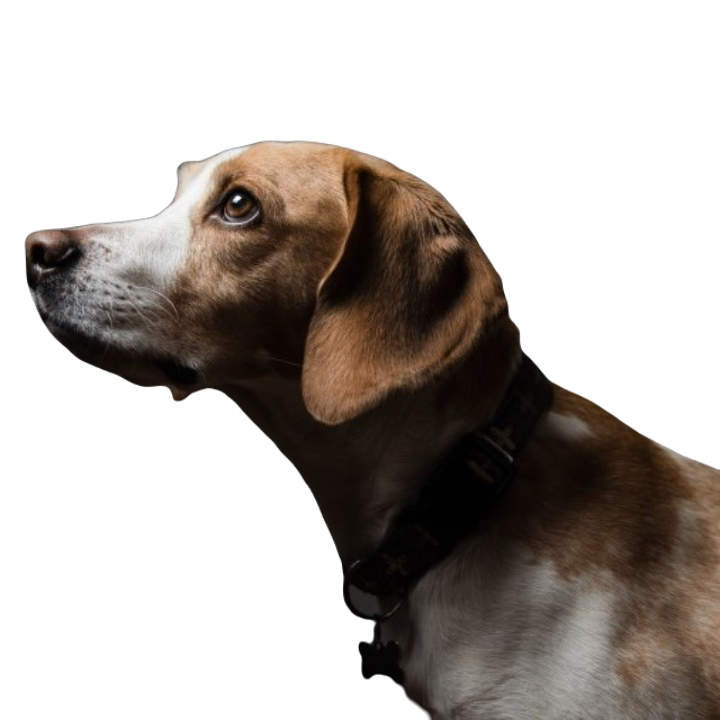Dog: (19, 136, 718, 719)
